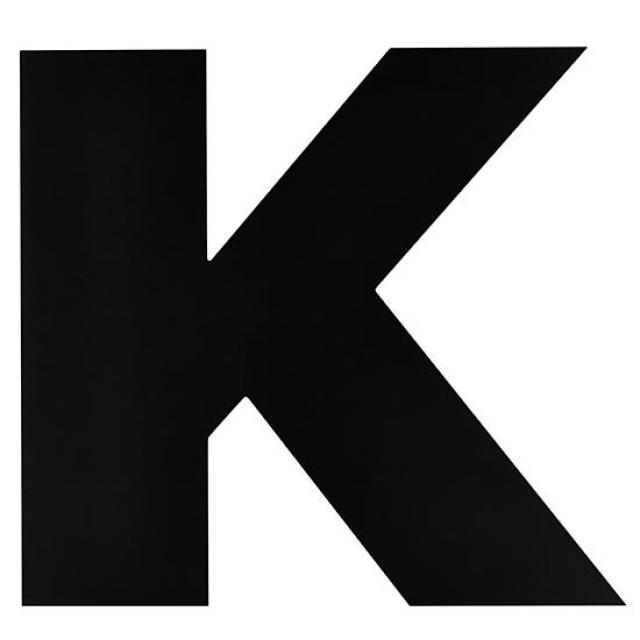K: (8, 17, 638, 638)
